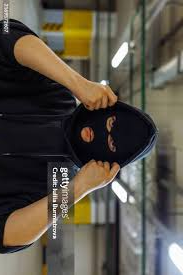terrorist: (21, 10, 168, 268)
